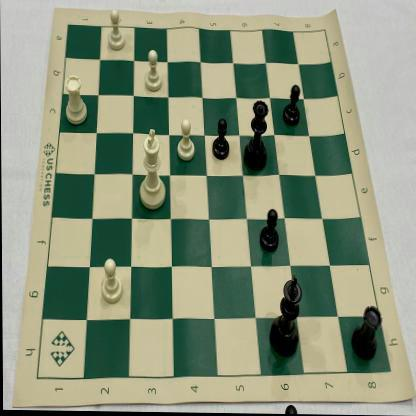black-king: (267, 271, 303, 361)
black-pawn: (257, 206, 282, 254), (211, 115, 233, 163), (280, 82, 302, 127)
black-queen: (240, 98, 272, 174)
black-rook: (350, 304, 383, 364)
white-king: (136, 126, 168, 212)
white-pawn: (98, 256, 124, 309), (103, 9, 128, 54), (142, 48, 165, 96), (174, 117, 197, 164)
white-rook: (61, 74, 90, 127)
